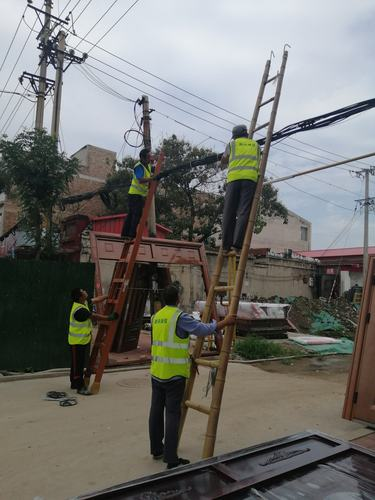安全帽、安全绳均未佩戴的工作人员: (217, 124, 261, 258), (119, 147, 155, 243)
未带安全帽的工作人员: (146, 279, 237, 469), (66, 286, 120, 395)
